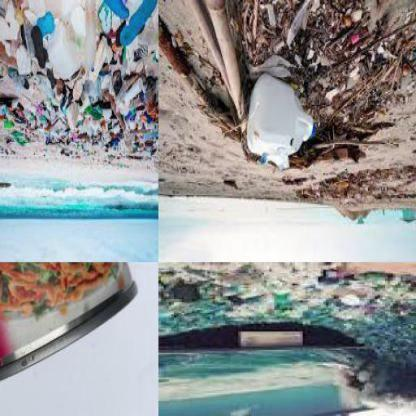Plastic: (243, 75, 315, 158), (114, 1, 157, 49)
